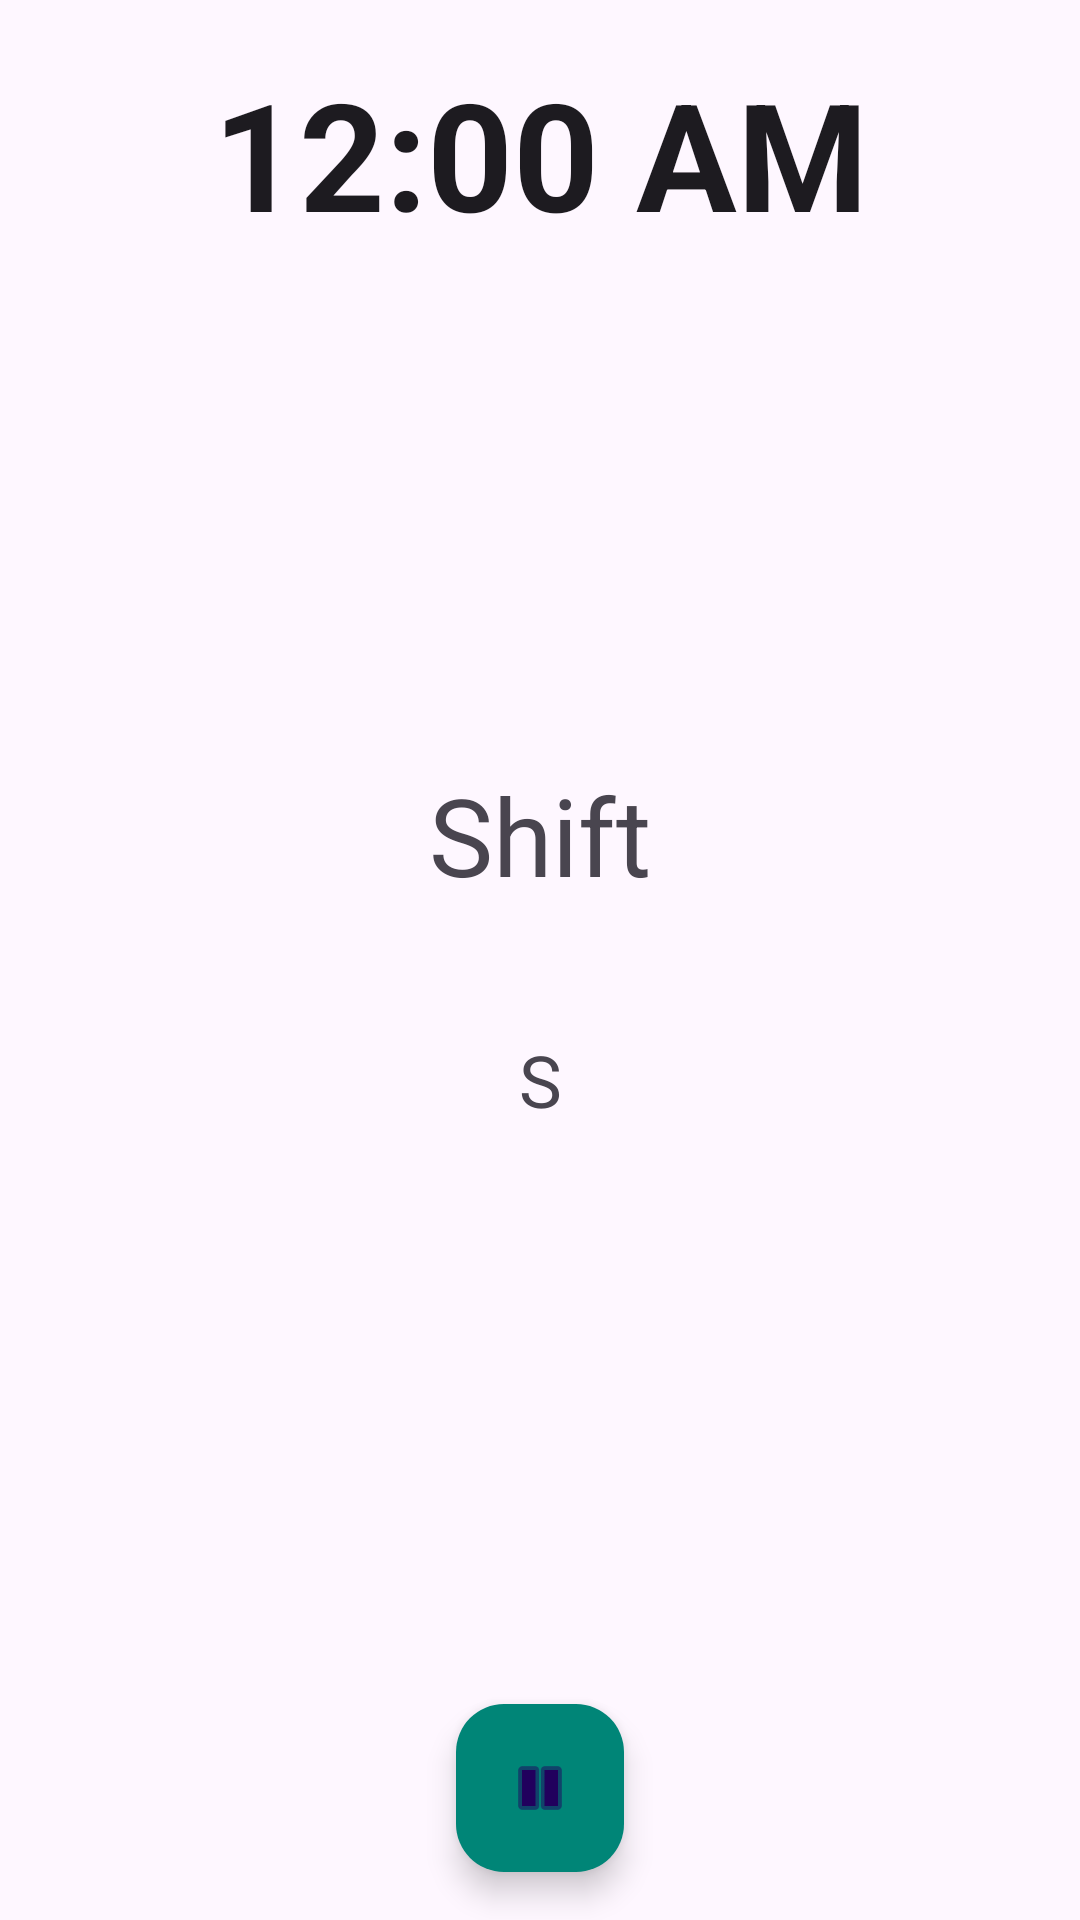

Named icons in this screenshot (1080px x 1920px) and their centers, (x=x, y=y):
pause: (x=540, y=1788)
